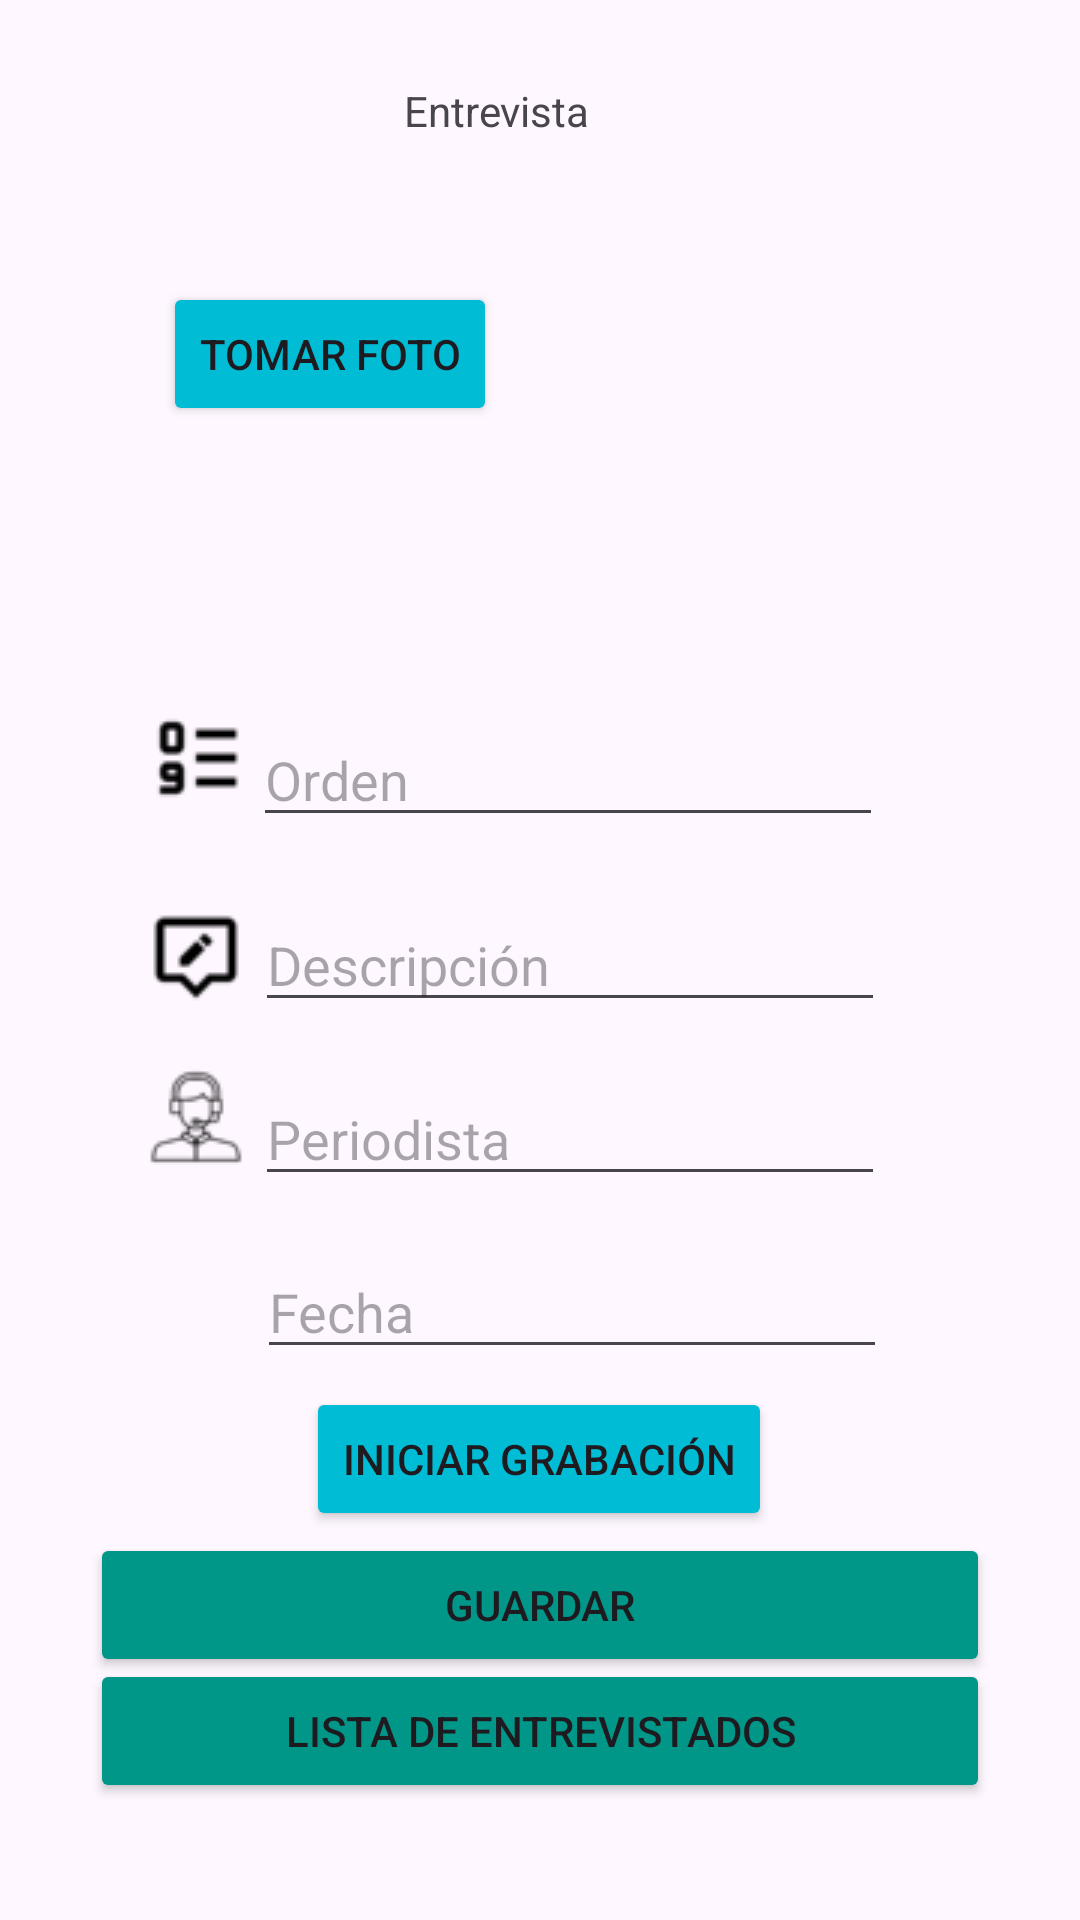

Where to tap for icons on this 1080x1920 app screen, as point (x, y):
descripcion: point (196, 956)
